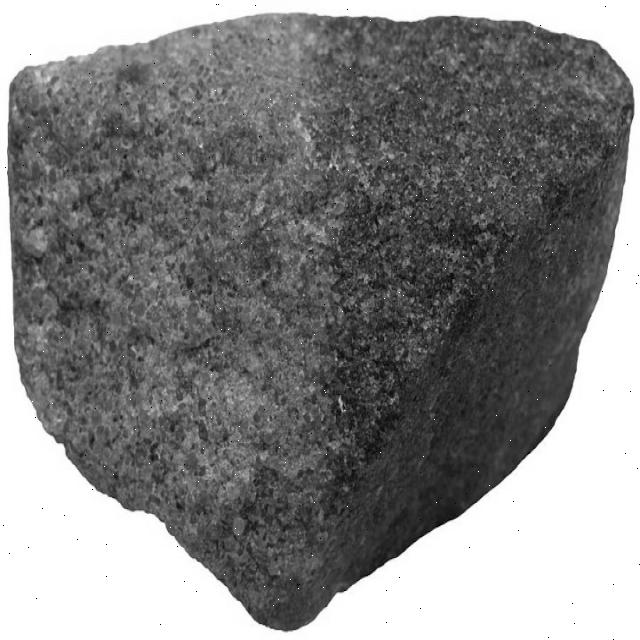Sedimentary: (7, 10, 634, 635)
